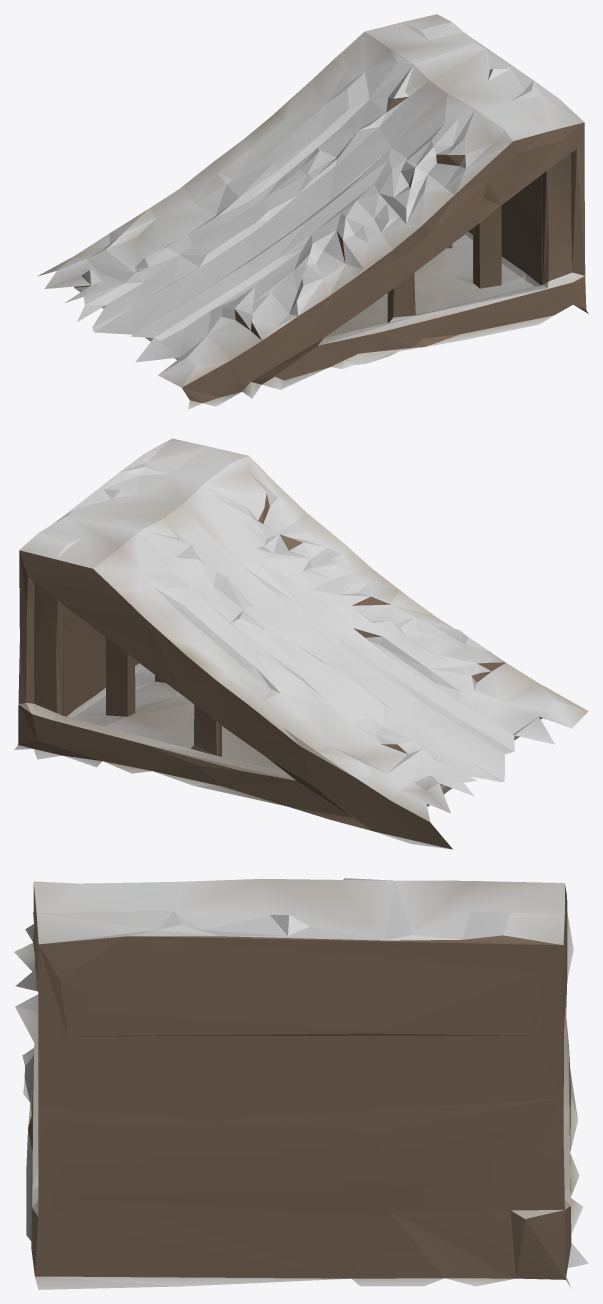
File: gen-ramp.glb
3 renders of one model, top to bottom at view 1: azimuth 30°, elevation 25°; view 2: azimuth 150°, elevation 25°; view 3: azimuth 270°, elevation 25°, orthographic. The views are drawn at different scales.
Visible parts, largest first — view 1: model; view 2: model; view 3: model.
Boxes of the visible parts, <box> form: model: <box>37,14,588,409</box>; model: <box>14,438,588,849</box>; model: <box>14,878,588,1289</box>.
Size of the model in its own units: 2.25 by 1 by 1.47.
